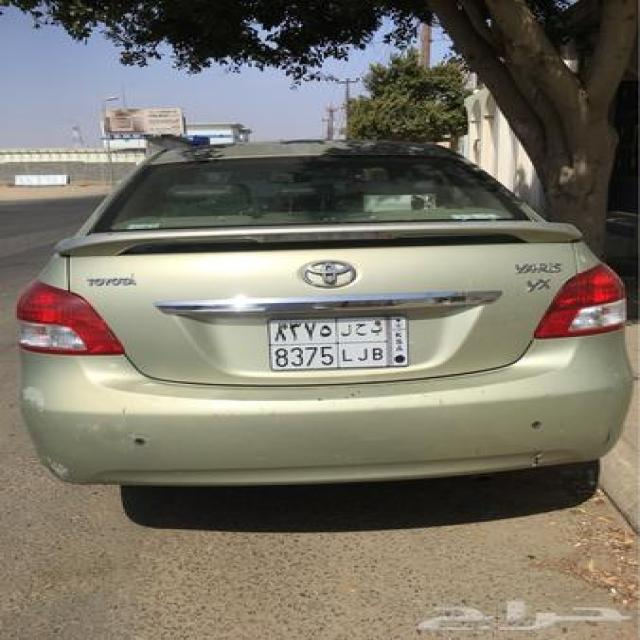license_plate: (265, 313, 413, 374)
